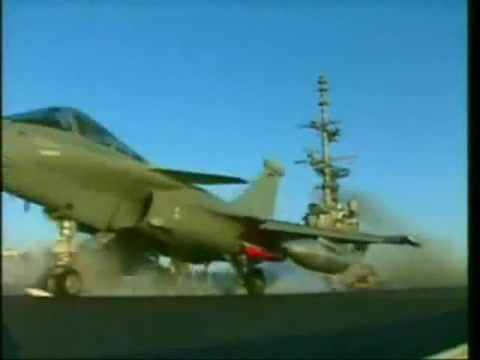aeroplane: (3, 99, 423, 299)
